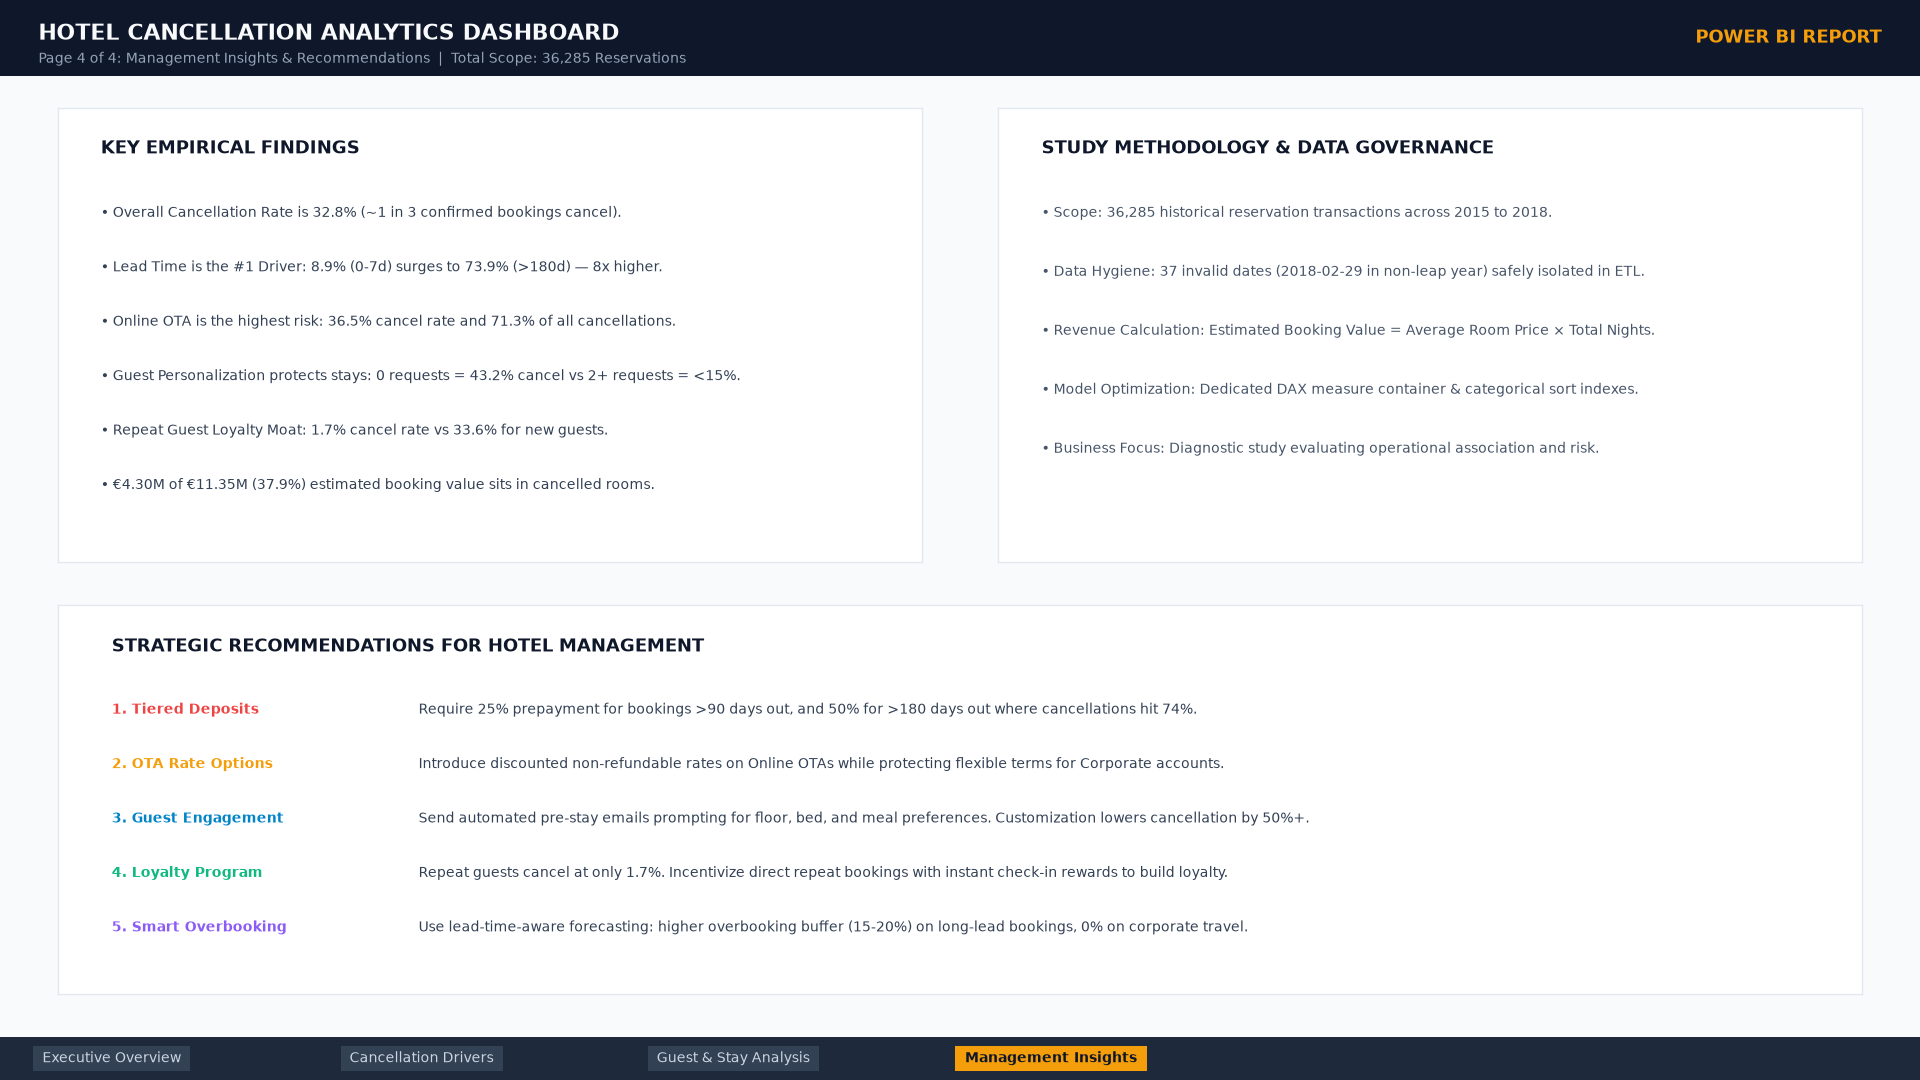

The page's visual inventory and layout, read from the dashboard file:
{"tool":"powerbi","page":{"name":"Management Insights","canvas":[1280,720],"ordinal":3},"visuals":[{"type":"textbox","box":[10,0,1270,52],"z":0},{"type":"textbox","box":[9.9,51.9,373.4,509.6],"z":1000},{"type":"textbox","box":[407.5,51.9,411.9,509.6],"z":2000},{"type":"textbox","box":[843.6,51.9,416.4,509.6],"z":3000},{"type":"clusteredColumnChart","fields":{"Category":["booking.Lead Time Group"],"Y":["_Measures.Cancellation Rate"]},"box":[9,576.7,1261.8,143.3],"z":4000}]}

Visuals, with their boxes in screenshot pixels (x1, y1, x2, y2), scaled from the page's 1280x720 canvas onto the 1920x1080 screenshot:
textbox: {"x1": 15, "y1": 0, "x2": 1919, "y2": 78}
textbox: {"x1": 15, "y1": 78, "x2": 575, "y2": 842}
textbox: {"x1": 611, "y1": 78, "x2": 1229, "y2": 842}
textbox: {"x1": 1265, "y1": 78, "x2": 1890, "y2": 842}
clusteredColumnChart - booking.Lead Time Group x _Measures.Cancellation Rate: {"x1": 14, "y1": 865, "x2": 1906, "y2": 1079}
